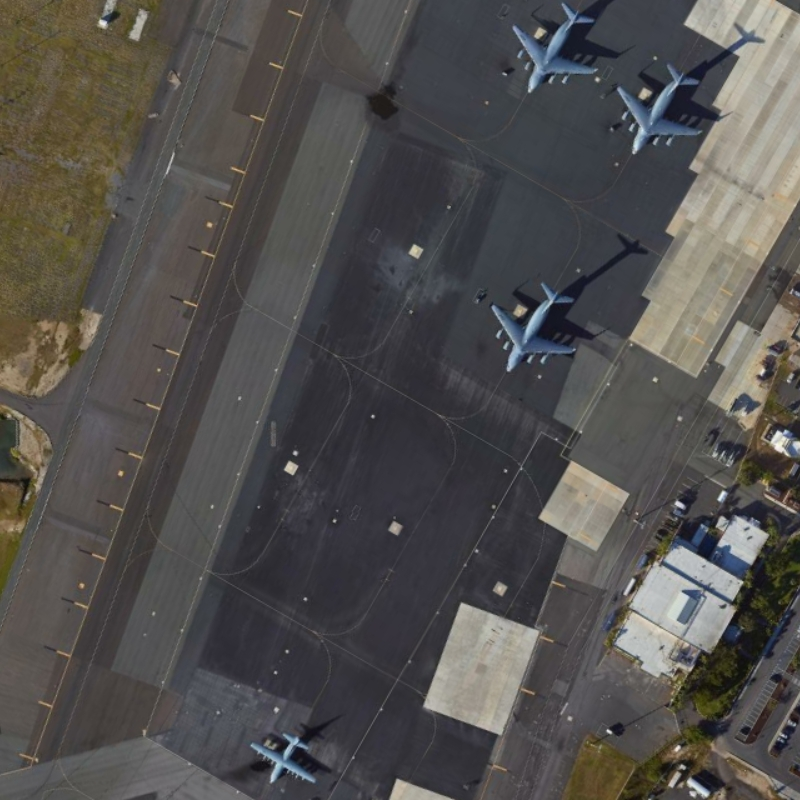A2: (249, 726, 319, 789)
A3: (612, 59, 706, 159), (491, 279, 581, 372), (512, 4, 598, 96)
